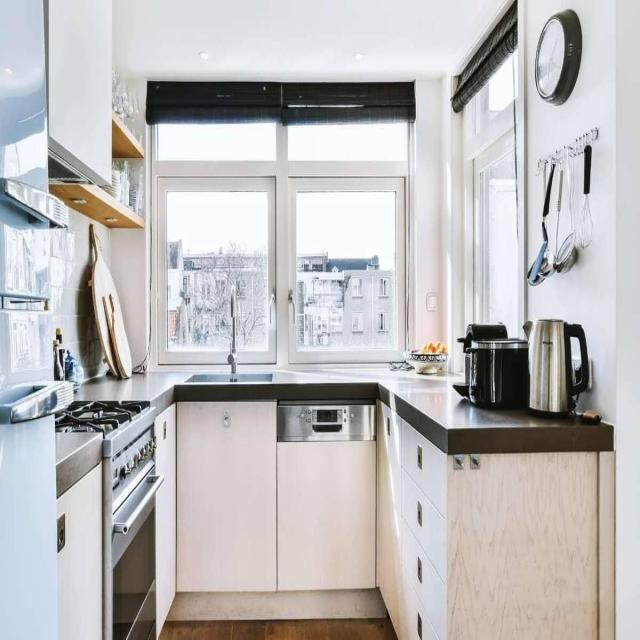dishwasher: (102, 407, 156, 640)
